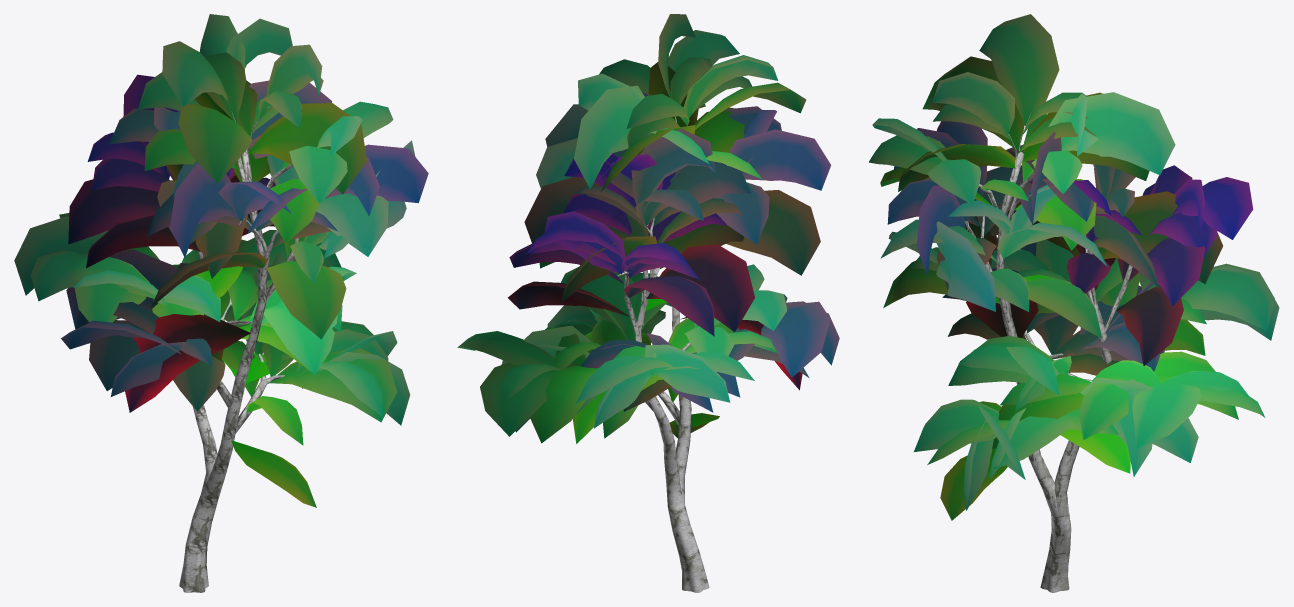
Rendered from birch.fbx.
3 views of the same model, side by side, from view 1: azimuth 30°, elevation 25°; view 2: azimuth 150°, elevation 25°; view 3: azimuth 270°, elevation 25° (orthographic). The views are drawn at different scales.
Parts seen in each view (by area): view 1: Tree_1, Tree_0; view 2: Tree_1, Tree_0; view 3: Tree_1, Tree_0.
Boxes of the visible parts, x1,y1,x2,y2 form: Tree_1: (14,14,428,507); Tree_0: (169,106,302,592); Tree_1: (457,14,839,443); Tree_0: (617,116,709,592); Tree_1: (869,14,1279,520); Tree_0: (964,113,1132,592).
Bounding box in the file's own units: 334 × 545 × 368.
1 material, 1 textured.
